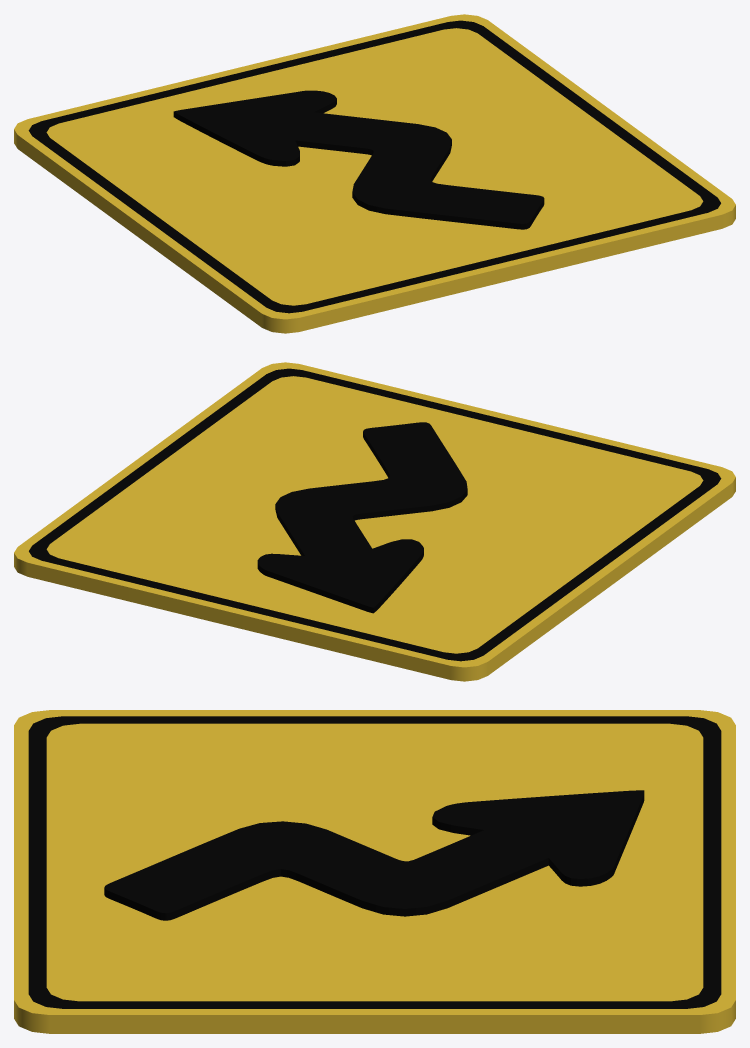
The model's file is right_reverse_turn_sign.fbx.
3 views of the same model, one above another, from view 1: azimuth 30°, elevation 25°; view 2: azimuth 150°, elevation 25°; view 3: azimuth 270°, elevation 25° (orthographic). The views are drawn at different scales.
Visible parts, largest first — view 1: square_yellow_sign, RightReverseTurn; view 2: square_yellow_sign, RightReverseTurn; view 3: square_yellow_sign, RightReverseTurn.
Part boxes in pixels (bbox=[...]): square_yellow_sign: bbox=[14, 14, 735, 333]; RightReverseTurn: bbox=[173, 90, 544, 229]; square_yellow_sign: bbox=[14, 362, 735, 681]; RightReverseTurn: bbox=[257, 422, 467, 613]; square_yellow_sign: bbox=[14, 710, 735, 1033]; RightReverseTurn: bbox=[104, 790, 644, 920].
Size of what is drawn, in the model's own units: 70.96 by 2.86 by 70.96.
